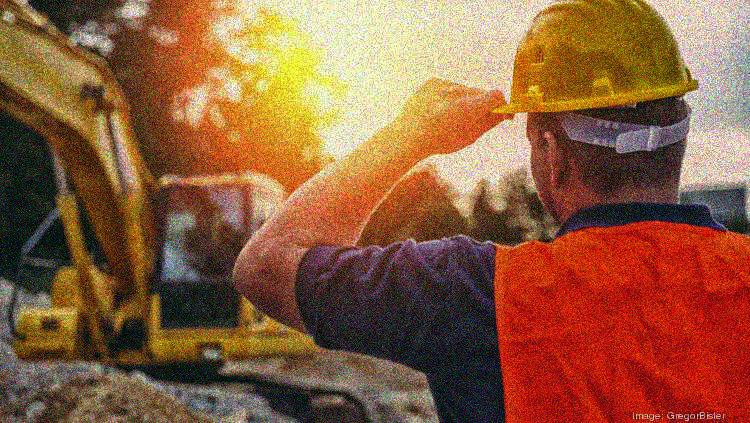helmet: (495, 1, 698, 216)
